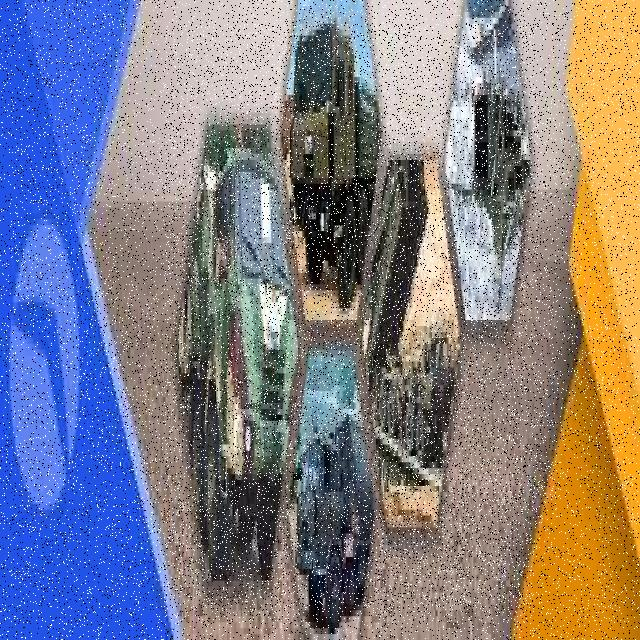MIL_MBT: (164, 24, 543, 616)
